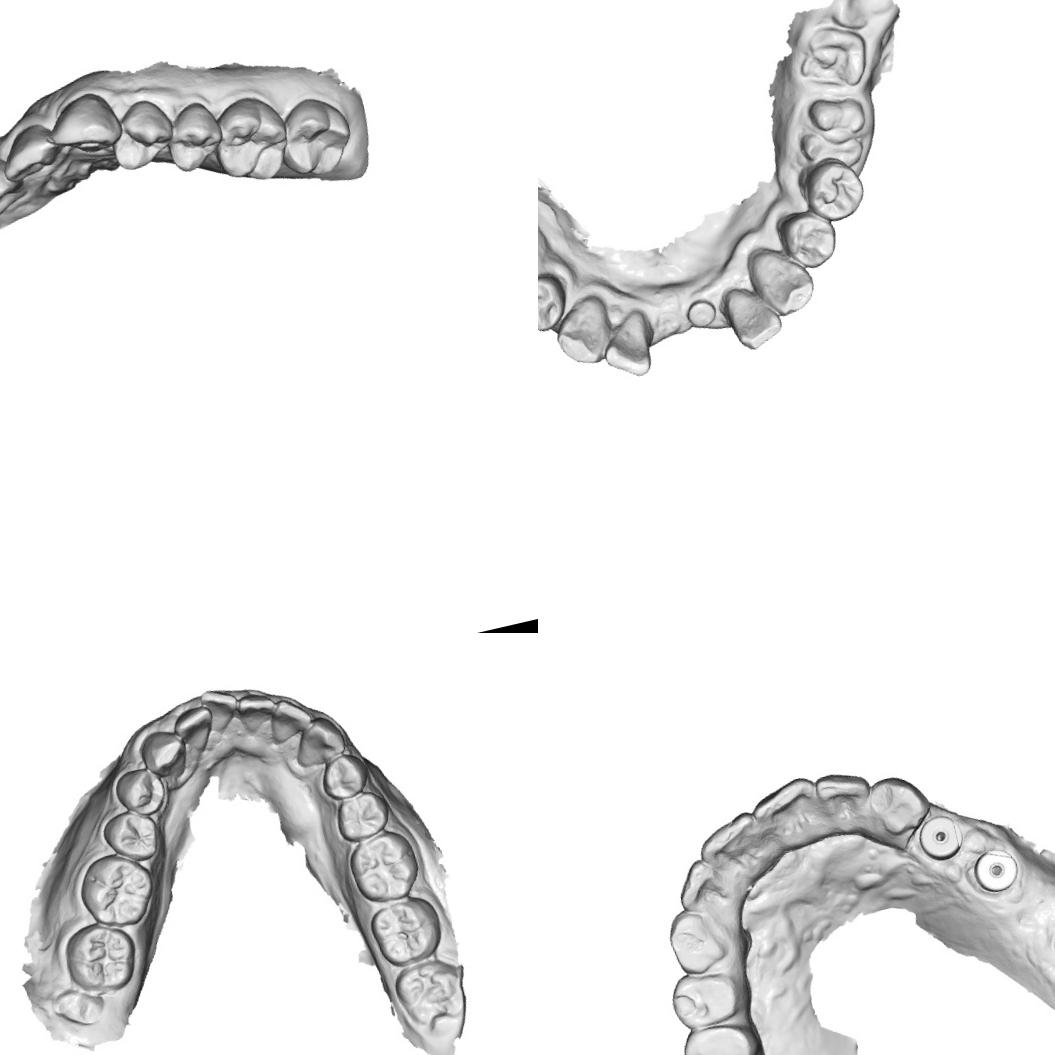canine: (547, 290, 620, 373), (748, 241, 818, 322), (861, 766, 934, 838), (50, 88, 124, 158), (660, 905, 730, 978), (286, 710, 350, 771), (135, 724, 191, 786)
implant: (972, 840, 1030, 898), (916, 810, 967, 864), (680, 294, 719, 333)
incisor: (750, 775, 830, 849), (722, 282, 786, 354), (696, 812, 767, 874), (600, 315, 664, 382), (668, 854, 730, 914), (810, 769, 871, 829), (262, 690, 318, 746), (0, 126, 60, 178), (169, 702, 221, 758), (232, 686, 281, 740), (197, 683, 244, 738), (0, 165, 20, 219)
molar: (204, 90, 298, 191), (70, 844, 163, 937), (271, 90, 359, 186), (57, 914, 145, 1001), (342, 826, 428, 910), (388, 952, 473, 1036), (364, 892, 448, 971)
premolar: (104, 93, 182, 177), (795, 151, 872, 228), (156, 94, 228, 176), (770, 204, 844, 278), (666, 966, 746, 1034), (96, 804, 166, 870), (330, 787, 396, 846), (109, 762, 171, 822), (675, 1015, 761, 1055), (315, 748, 375, 803), (538, 271, 572, 338)
